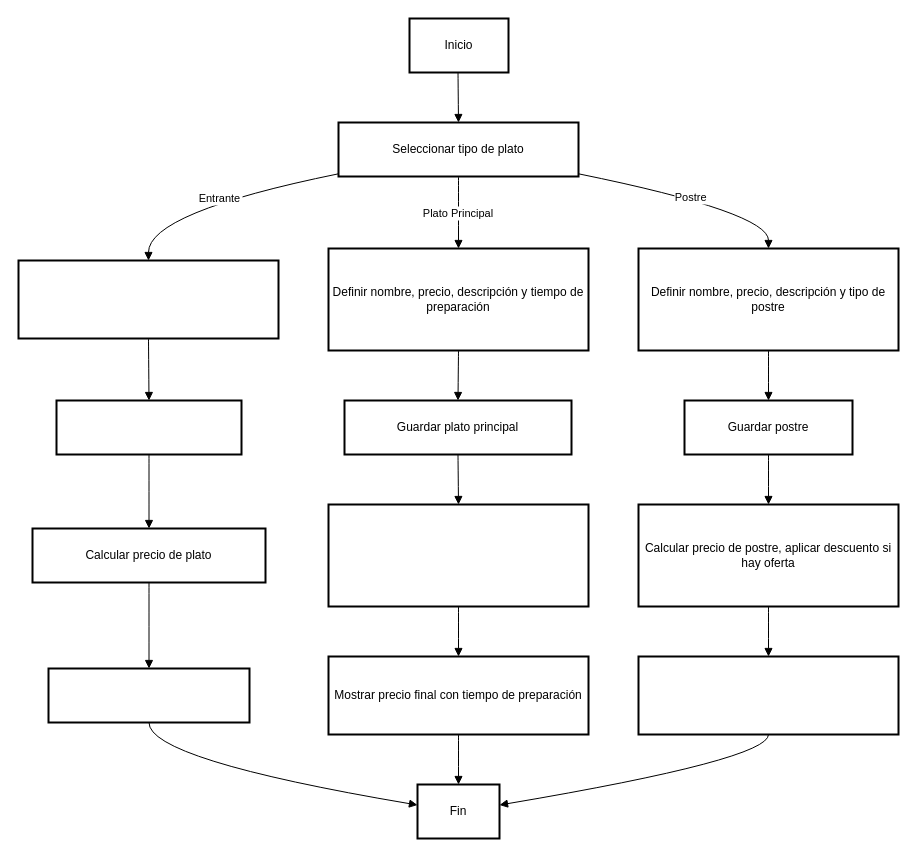
This 916x856 diagram has some shape labels left out. The shapes that lost their labels are listed below. From the top down, each one's centre as x and y in pixels, then its label:
point 148,299: Definir nombre, precio y descripción
point 148,427: Guardar entrante
point 458,555: Calcular precio de plato principal con tiempo de preparación
point 148,695: Mostrar precio final
point 768,695: Mostrar precio final del postre con descuento
